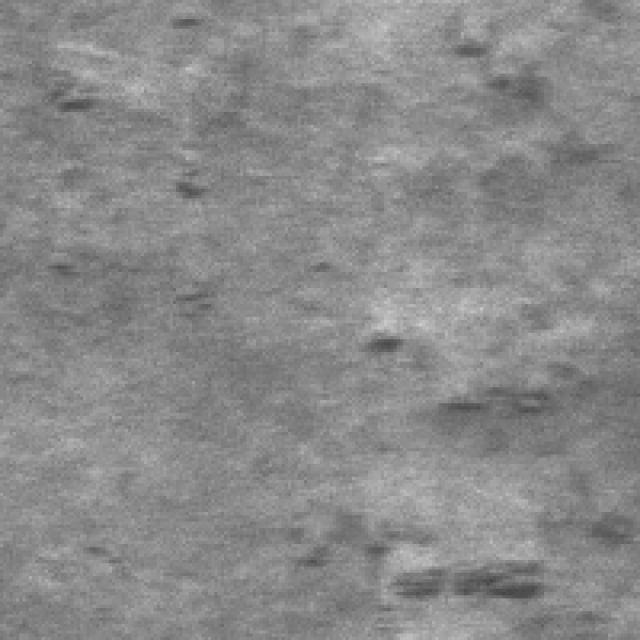rolled-in_scale: (378, 320, 640, 445), (451, 29, 605, 198), (387, 506, 634, 608), (45, 60, 221, 202)
